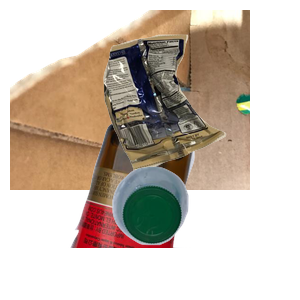cardboard: (10, 10, 250, 190)
glass: (68, 120, 255, 300)
plastic: (110, 164, 300, 300)
trash: (101, 32, 300, 195)
